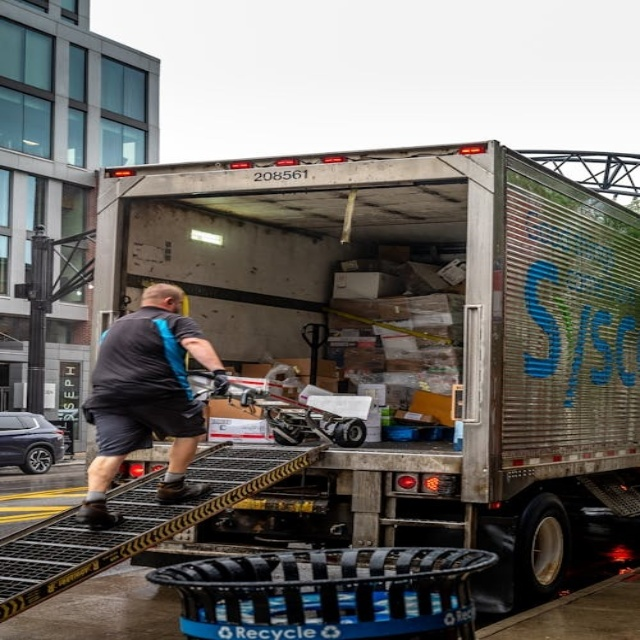Guantes: (210, 370, 230, 395)
